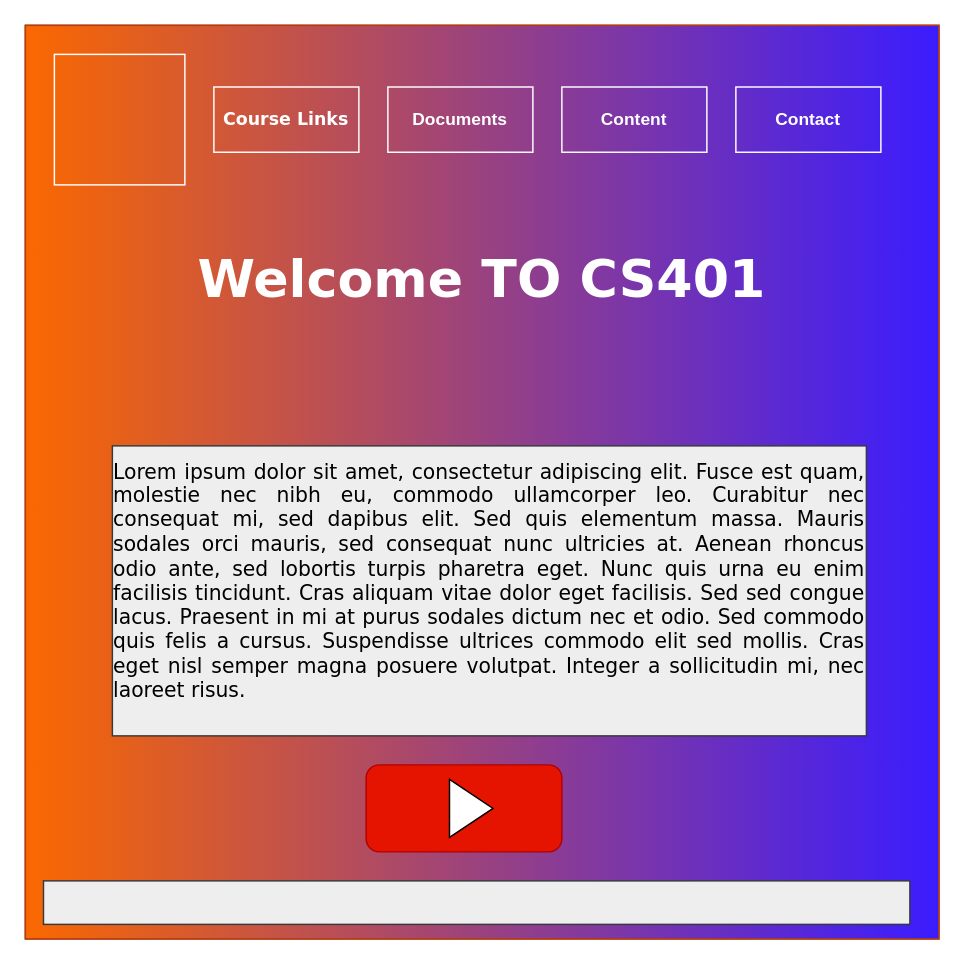
Some shapes in this 964 by 964 pixel diagram are drawn without their labels. Each missing label, with the centre of its shape:
"CS401" goes at point (119, 119).
"Nam cursus eu eros ac maximus. Etiam ornare neque ac nibh tristique, ac" goes at point (476, 901).
